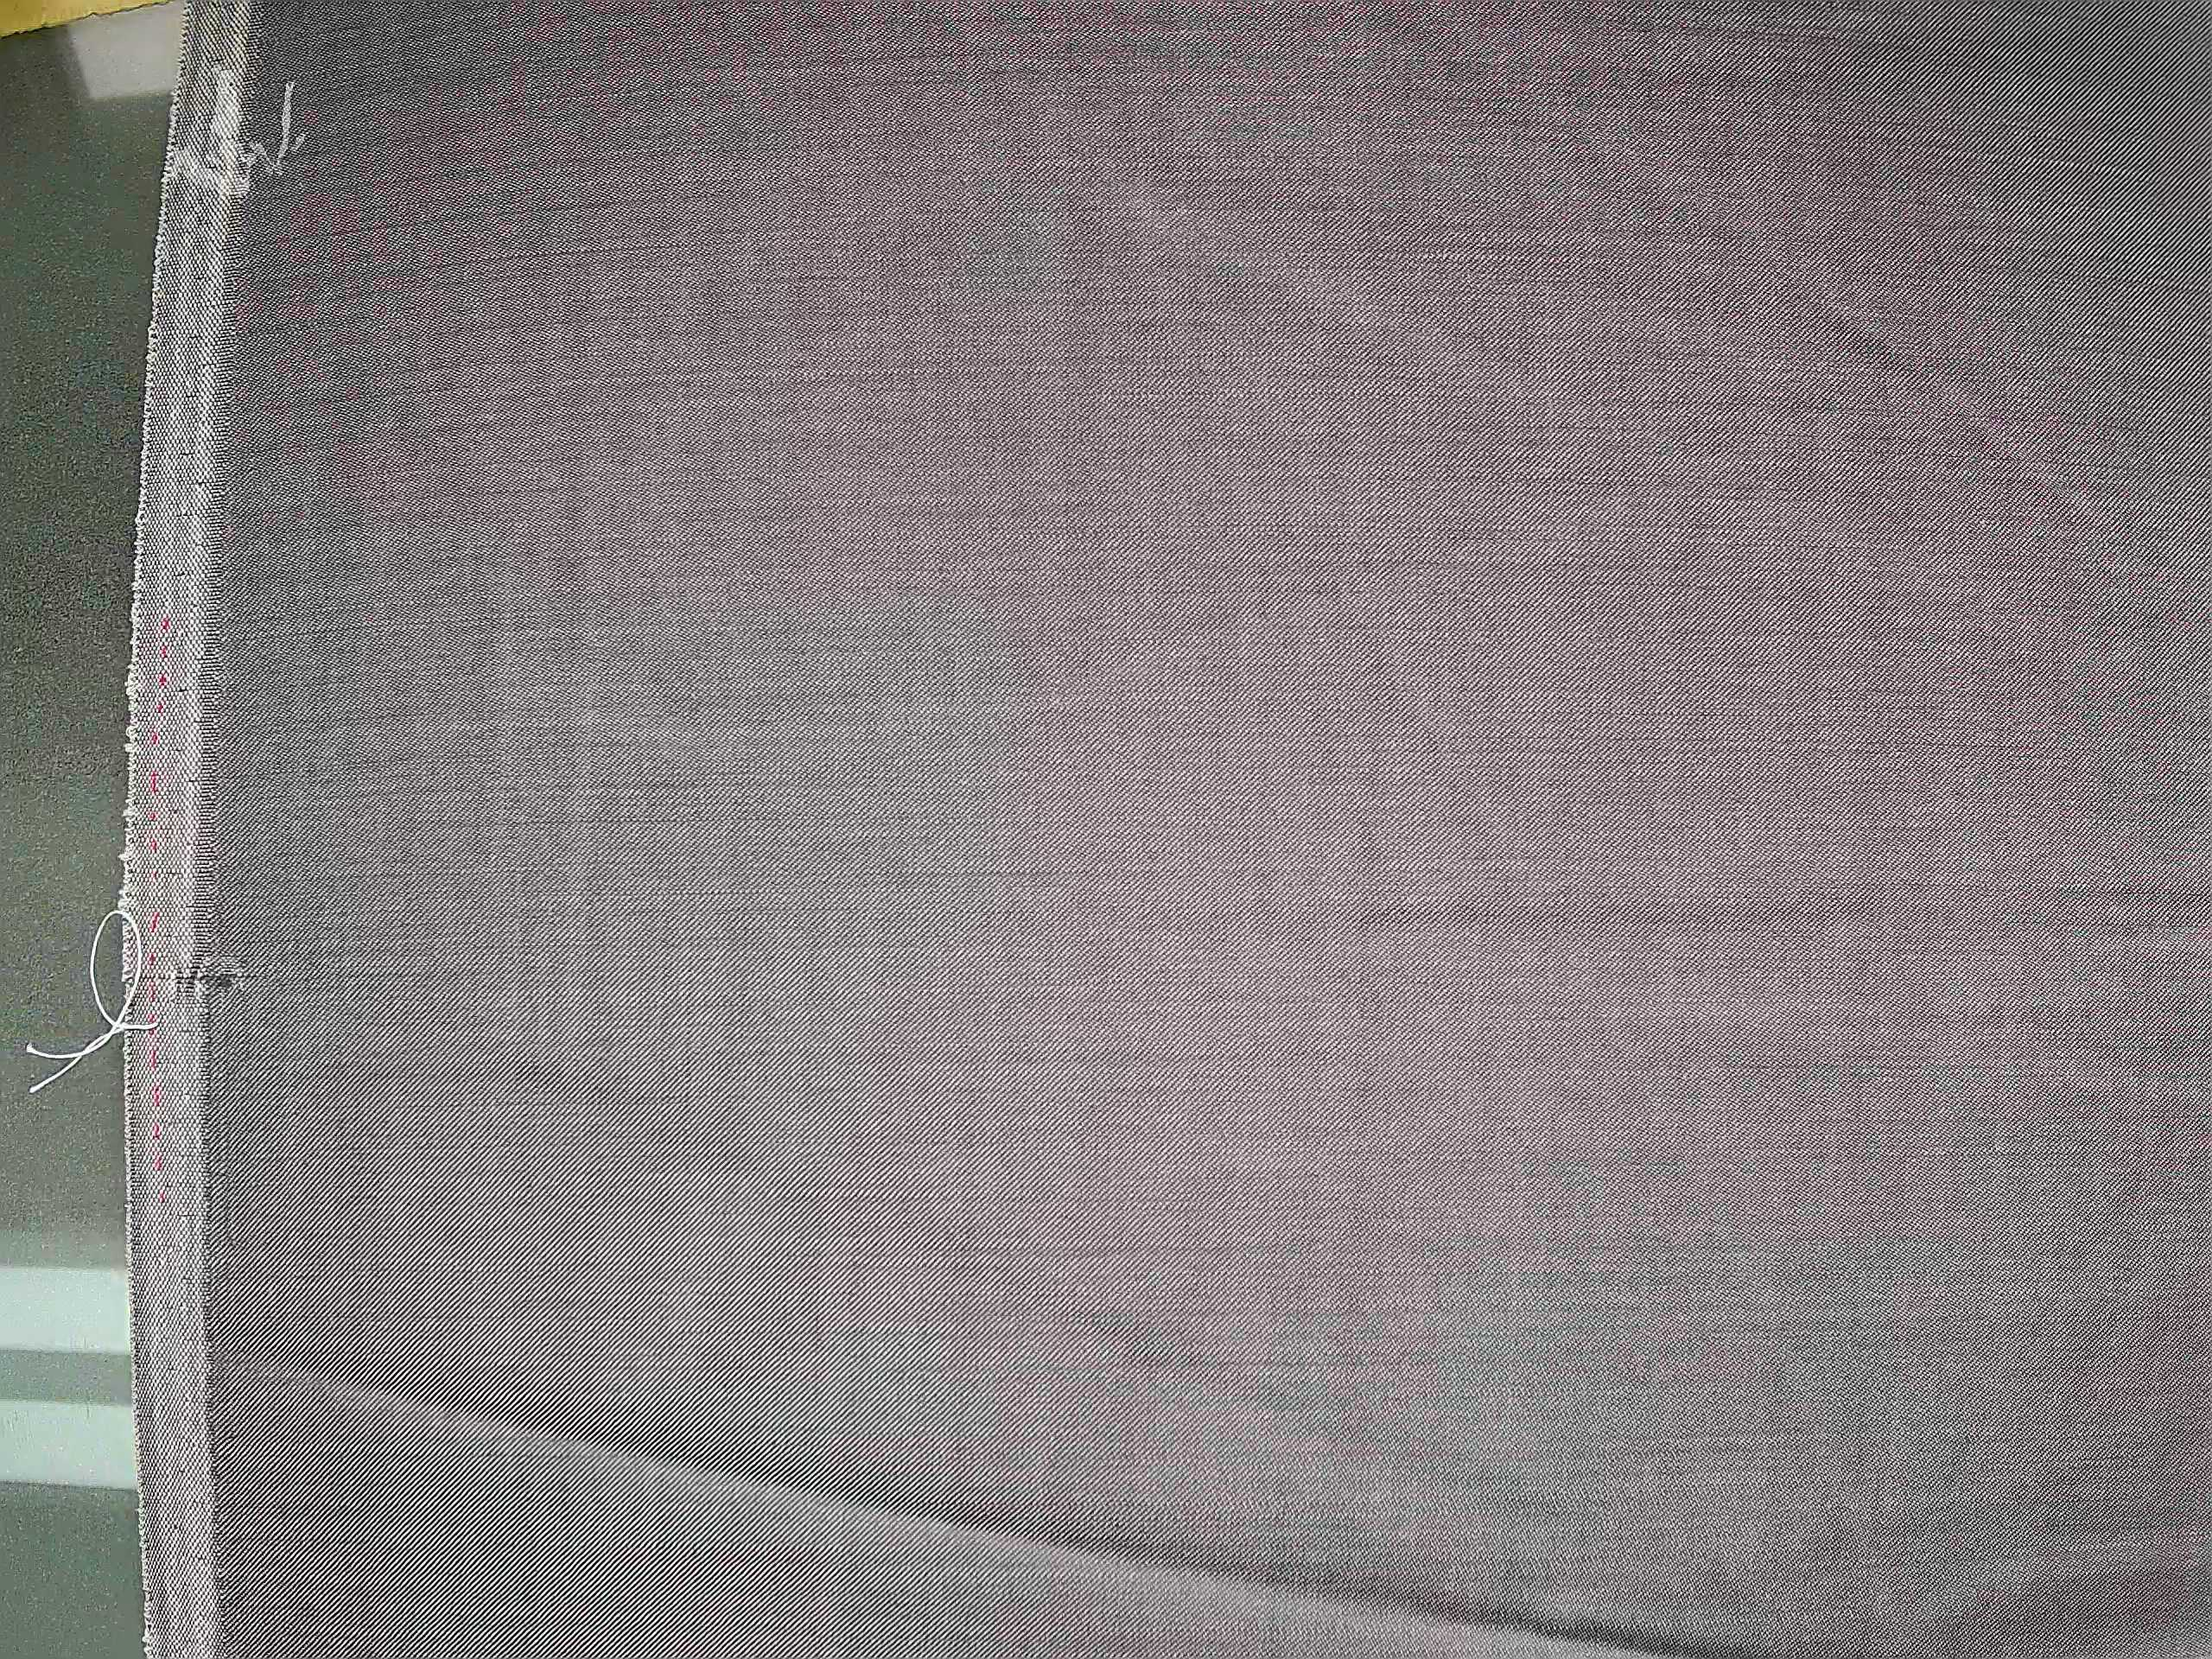thin-spinning: (193, 943, 327, 1011)
